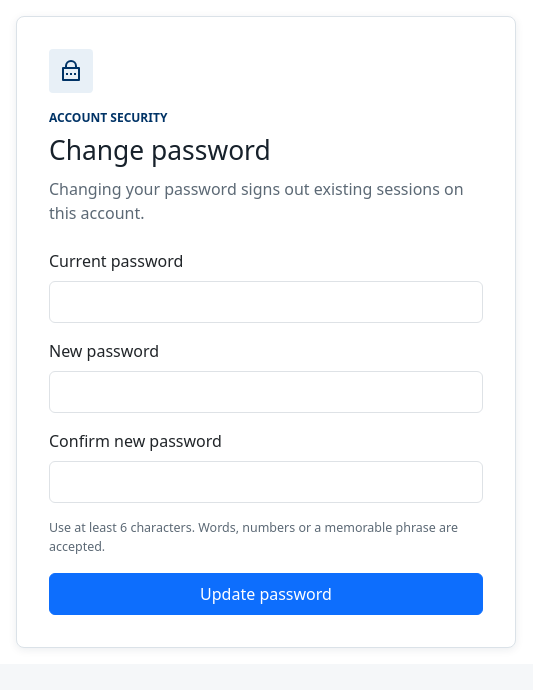
Scenario: change password validates matching confirmation before API submission
Type "CurrentPass123!" into the password field labelled "Current password" at (266, 302), box [49,281,483,323]
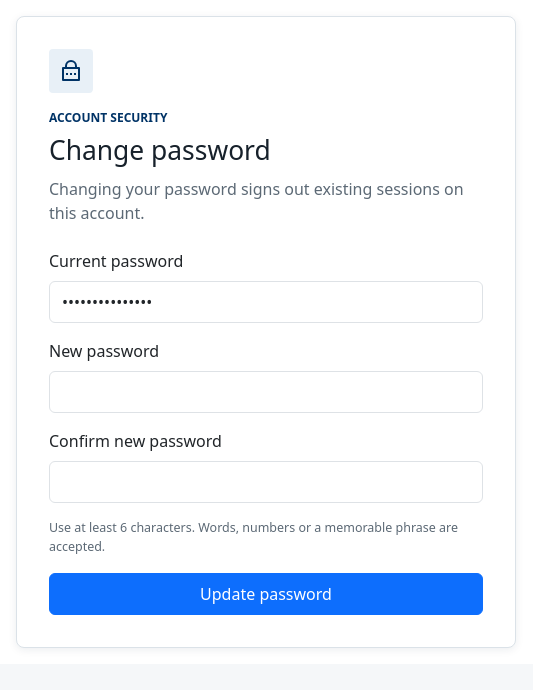
Type "NewPass123!" into the password field labelled "New password" at (266, 392), box [49,371,483,413]
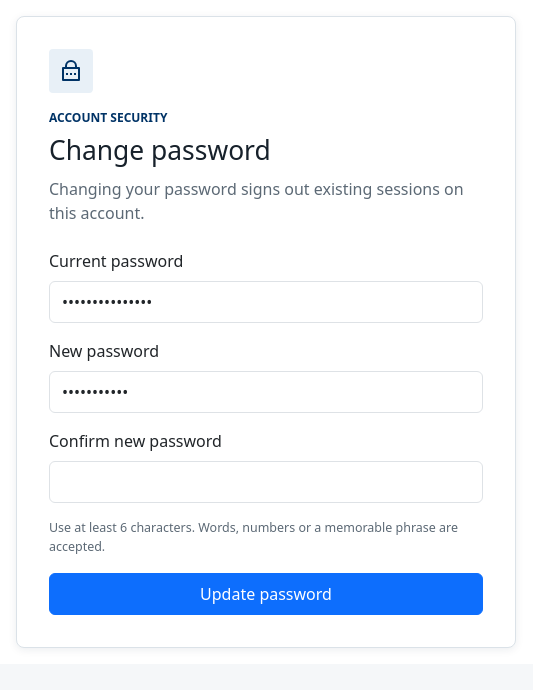
Type "DifferentPass123!" into the password field labelled "Confirm new password" at (266, 482), box [49,461,483,503]
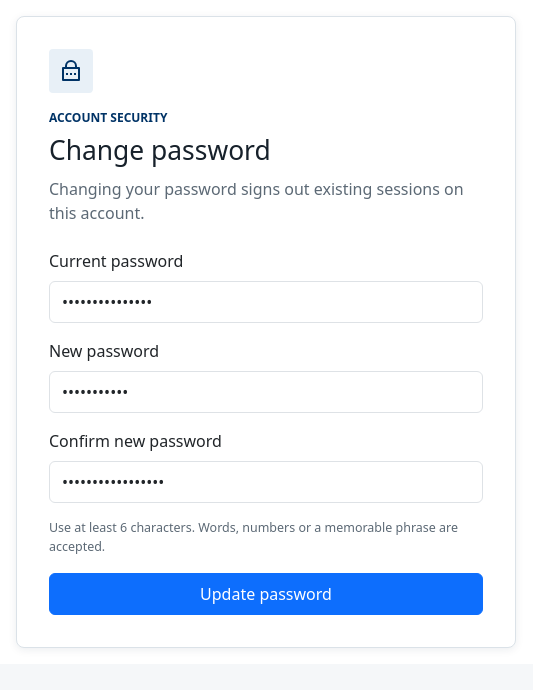
Click the button "Update password" at (266, 594), box [49,572,483,614]
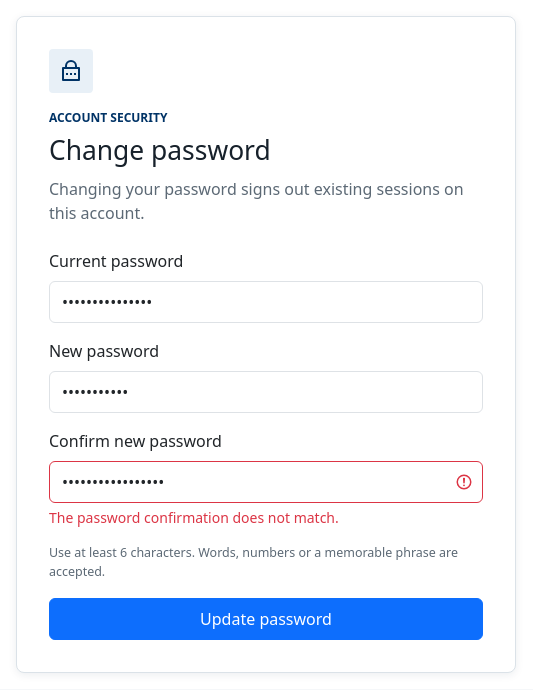
expect the text "The password confirmation does not match." is shown: met, box [49,508,339,527]
